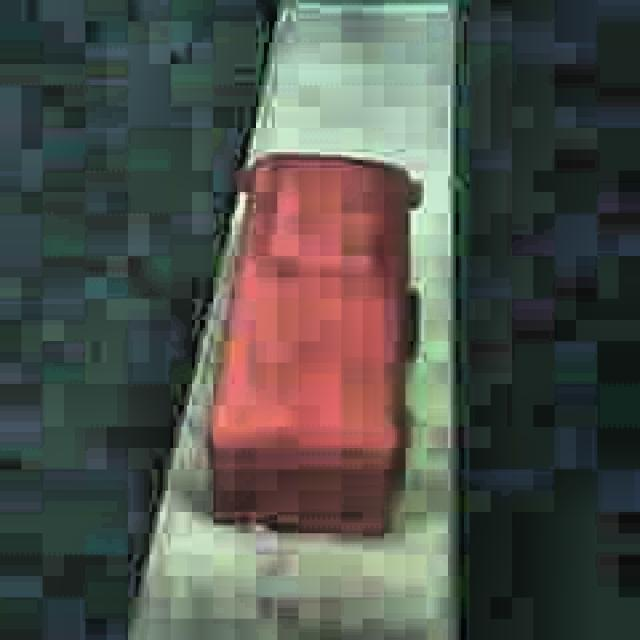bus: (209, 150, 424, 540)
